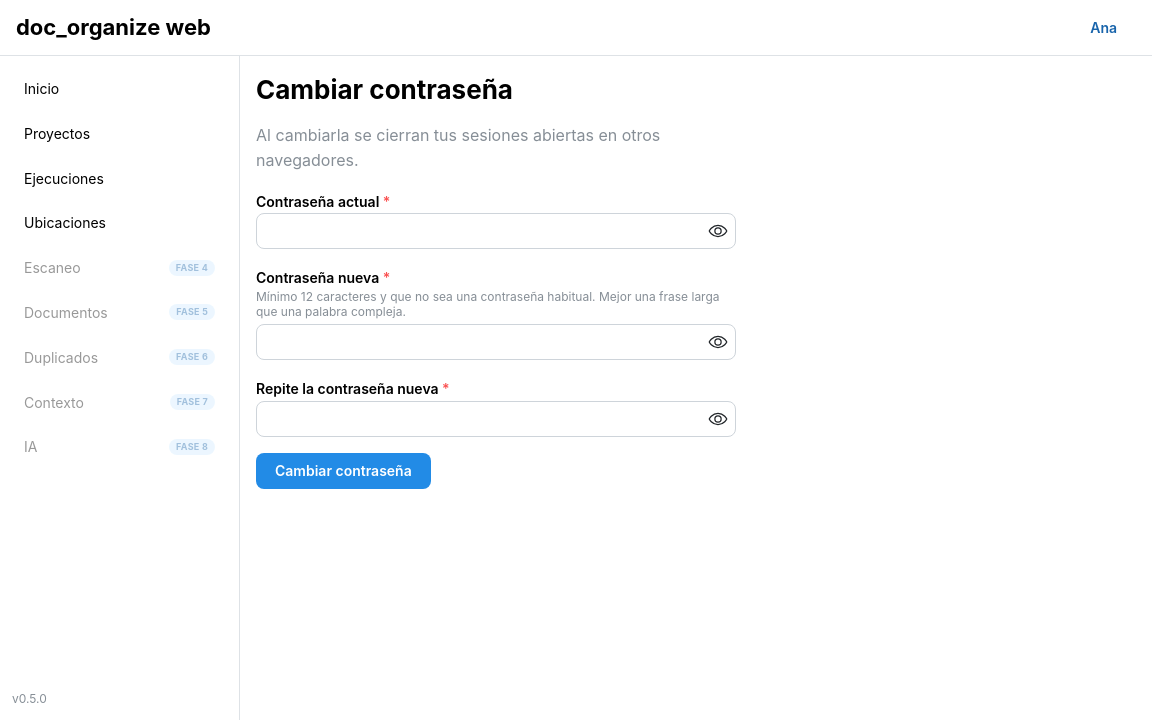
ChangePasswordPage › valida y cambia la contraseña
In the password field labelled "Contraseña actual *": (496, 232) [257,214,735,248], type "vieja"
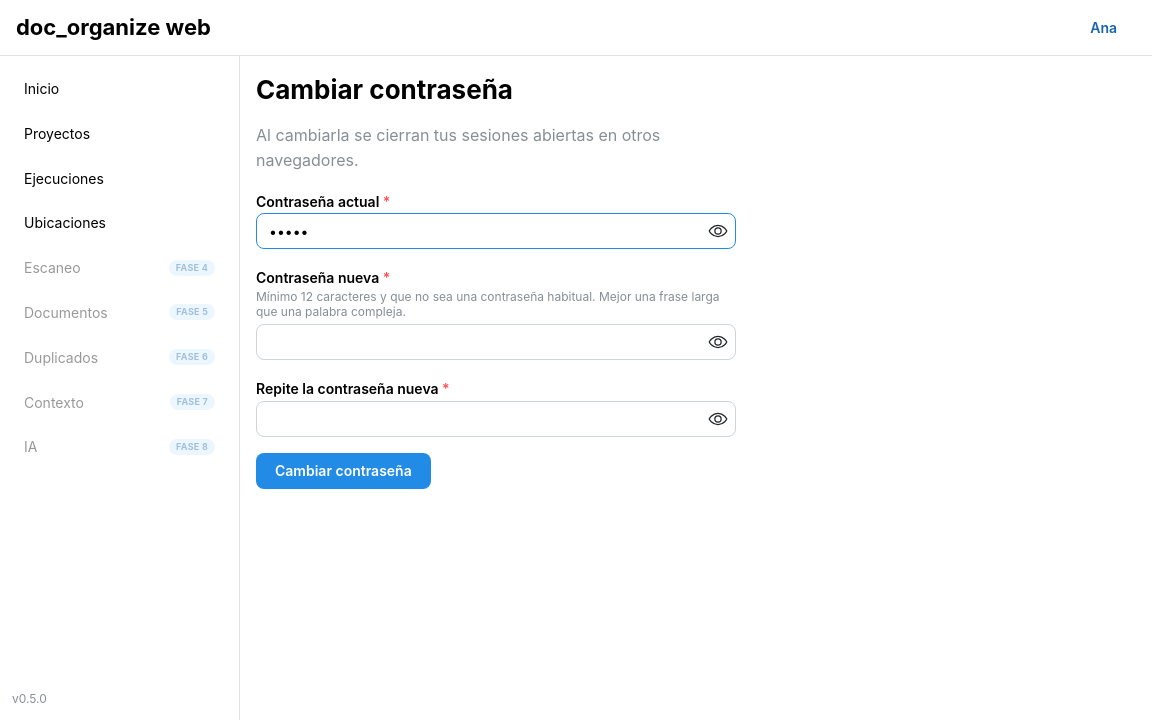
In the password field labelled "Contraseña nueva *": (496, 342) [257,325,735,359], type "corta"
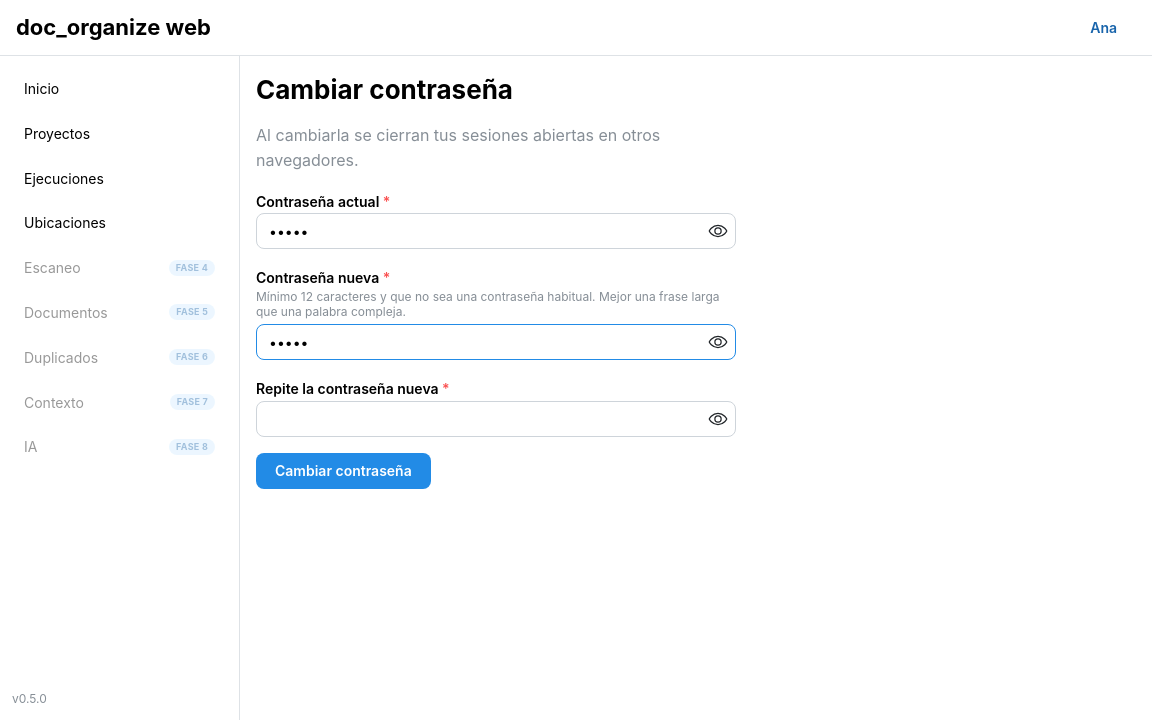
Click the button "Cambiar contraseña": (343, 471) [256,453,431,489]
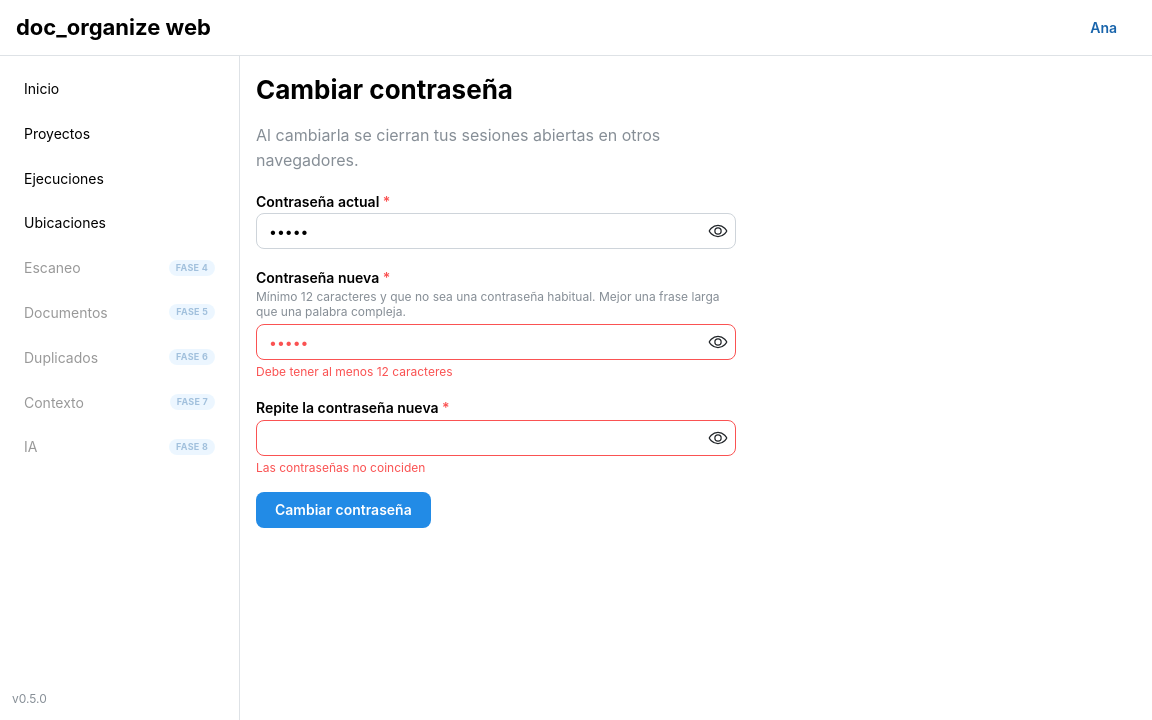
Check: the text "Debe tener al menos 12 caracteres" is shown, box [256,364,452,379]
Check: the text "Las contraseñas no coinciden" is shown, box [256,460,425,475]
In the password field labelled "Contraseña nueva *": (496, 342) [257,325,735,359], type "una-frase-larga"
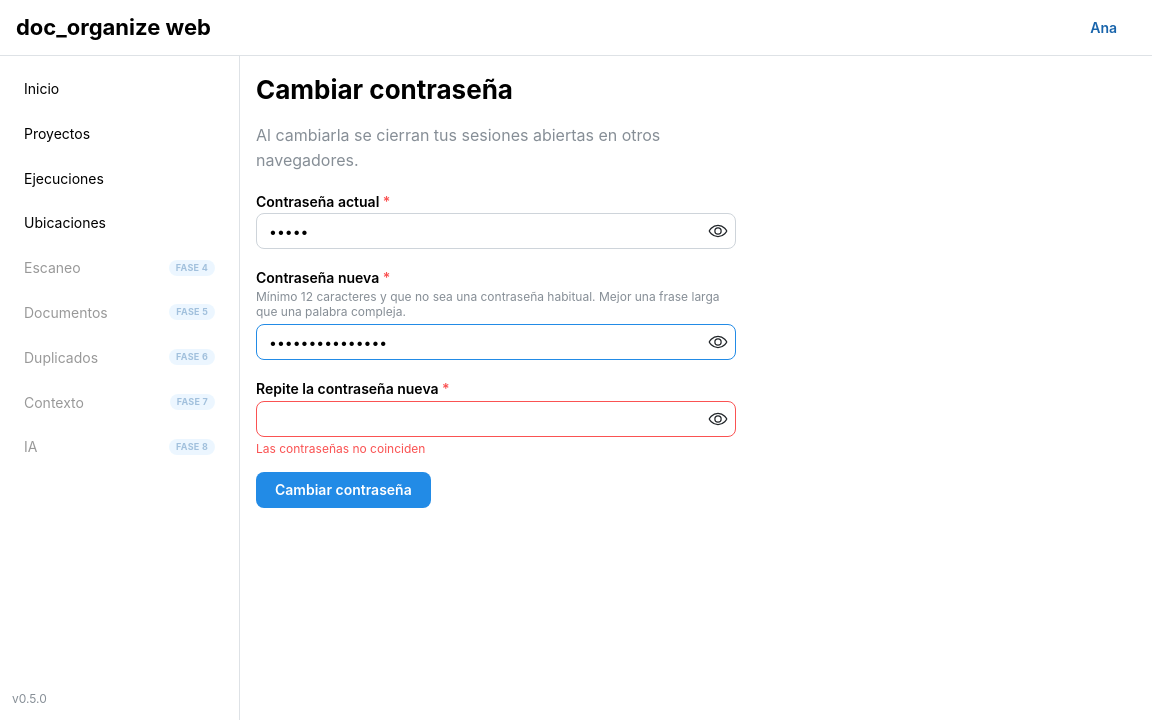
In the password field labelled "Repite la contraseña nueva *": (496, 419) [257,402,735,436], type "una-frase-larga"
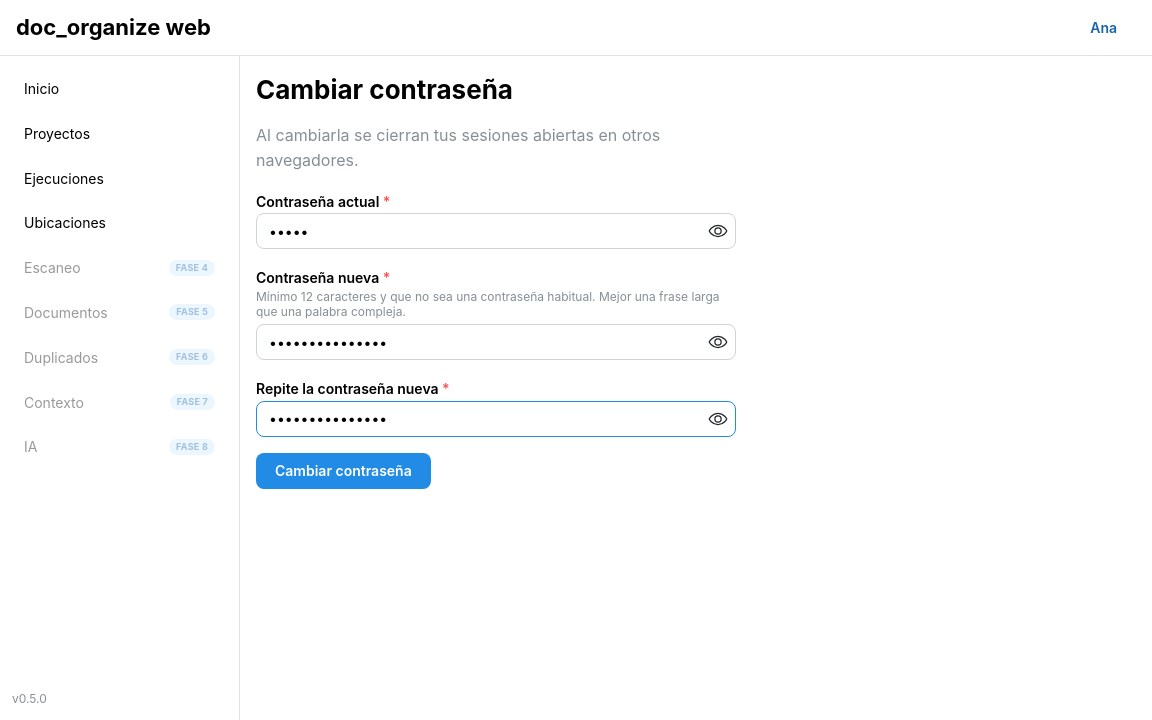
Click the button "Cambiar contraseña": (343, 471) [256,453,431,489]
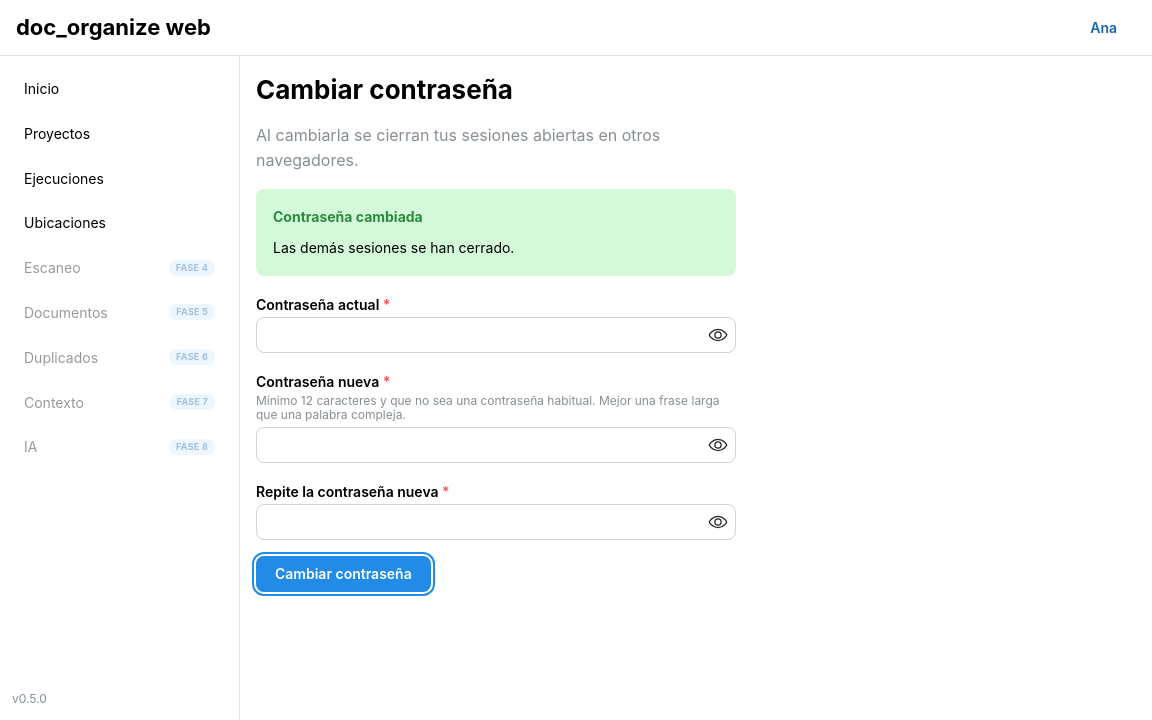
Check: the text "Contraseña cambiada" is shown, box [273,206,423,227]
